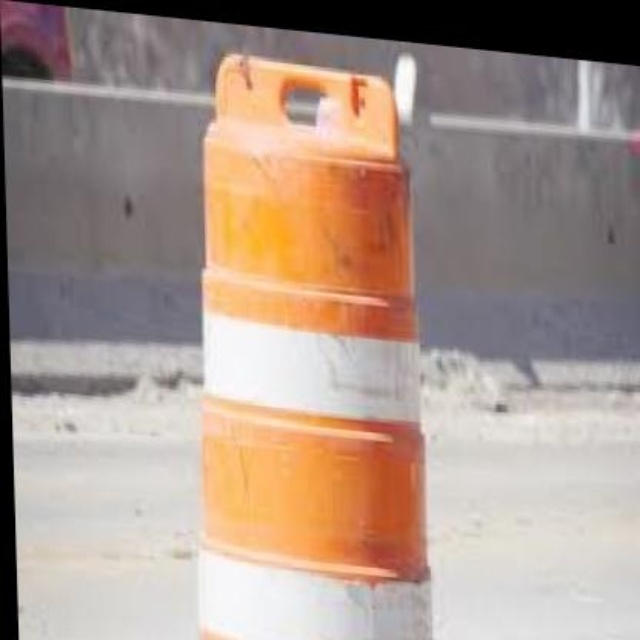obstacle: (178, 56, 434, 640)
